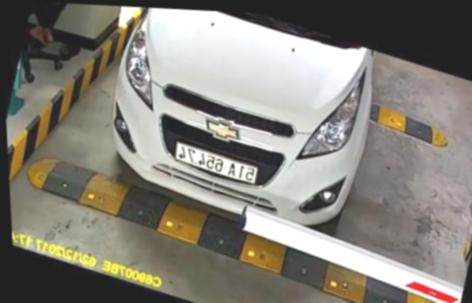License_Plate: (167, 143, 260, 190)
